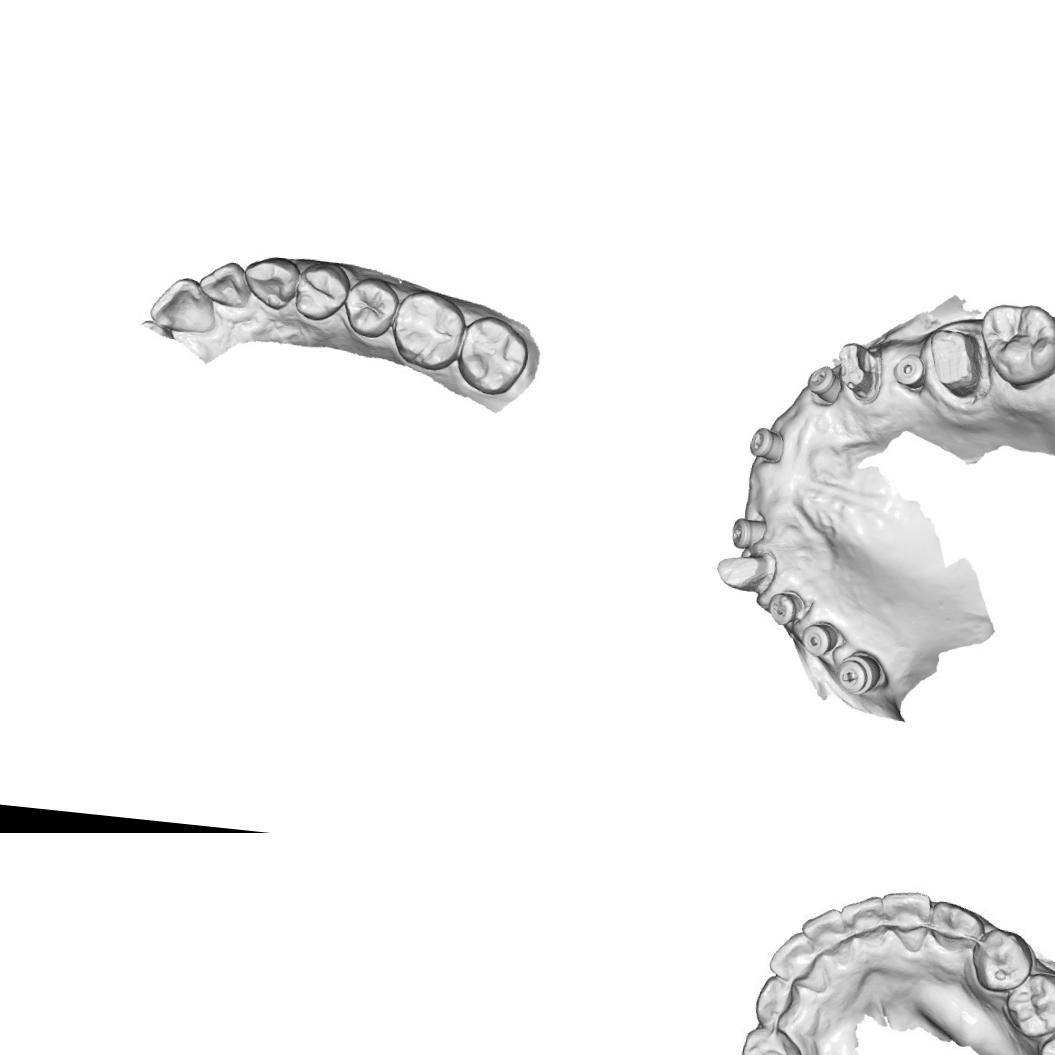canine: (750, 971, 814, 1031), (240, 252, 303, 312), (927, 893, 982, 958)
crown: (924, 328, 989, 401), (833, 339, 883, 403), (712, 551, 776, 595)
implant: (798, 620, 842, 661), (890, 351, 927, 392)
implant_minus: (835, 650, 884, 698), (745, 420, 789, 464), (803, 361, 842, 406), (727, 515, 768, 551), (767, 590, 800, 628)
incisor: (146, 272, 222, 336), (768, 930, 829, 991), (881, 888, 934, 952), (195, 258, 253, 310), (840, 895, 891, 954), (800, 906, 850, 954)
molar: (975, 299, 1055, 392), (387, 286, 470, 374), (454, 312, 534, 399)
premolar: (969, 925, 1038, 995), (340, 270, 402, 342), (998, 968, 1055, 1045), (292, 256, 352, 326), (735, 1020, 807, 1055)
